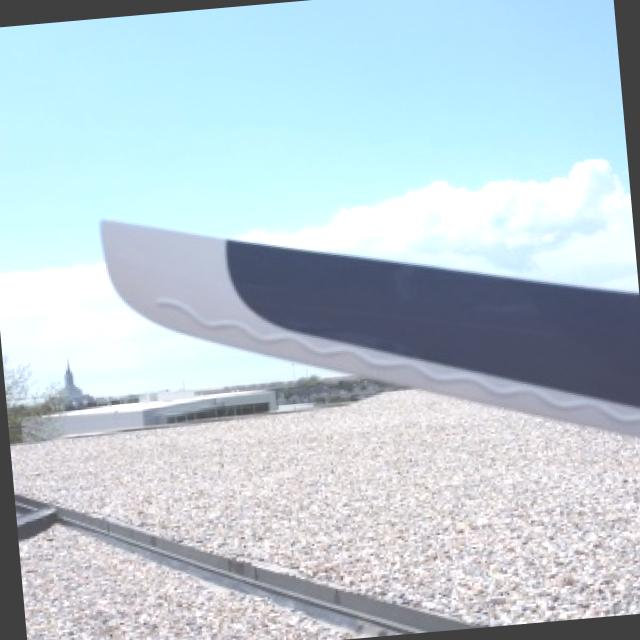healthy: (99, 219, 640, 435)
